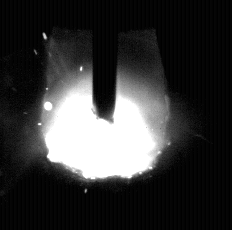arame: (94, 0, 118, 123)
poca: (39, 0, 169, 230)
